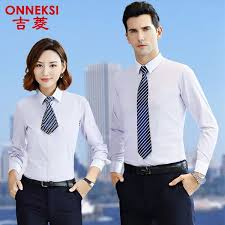F_shirt: (108, 55, 219, 181), (6, 88, 109, 189)
F_tie: (134, 67, 159, 162)
